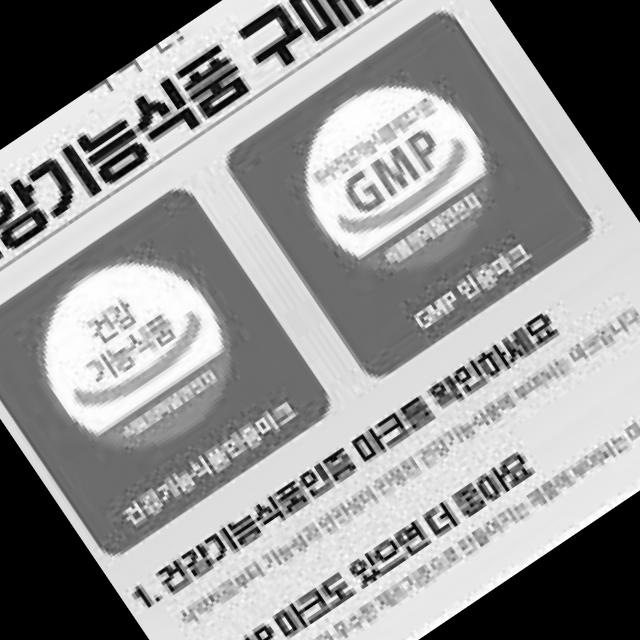GMP: (266, 43, 526, 310)
HEALTHY: (3, 218, 270, 488)
